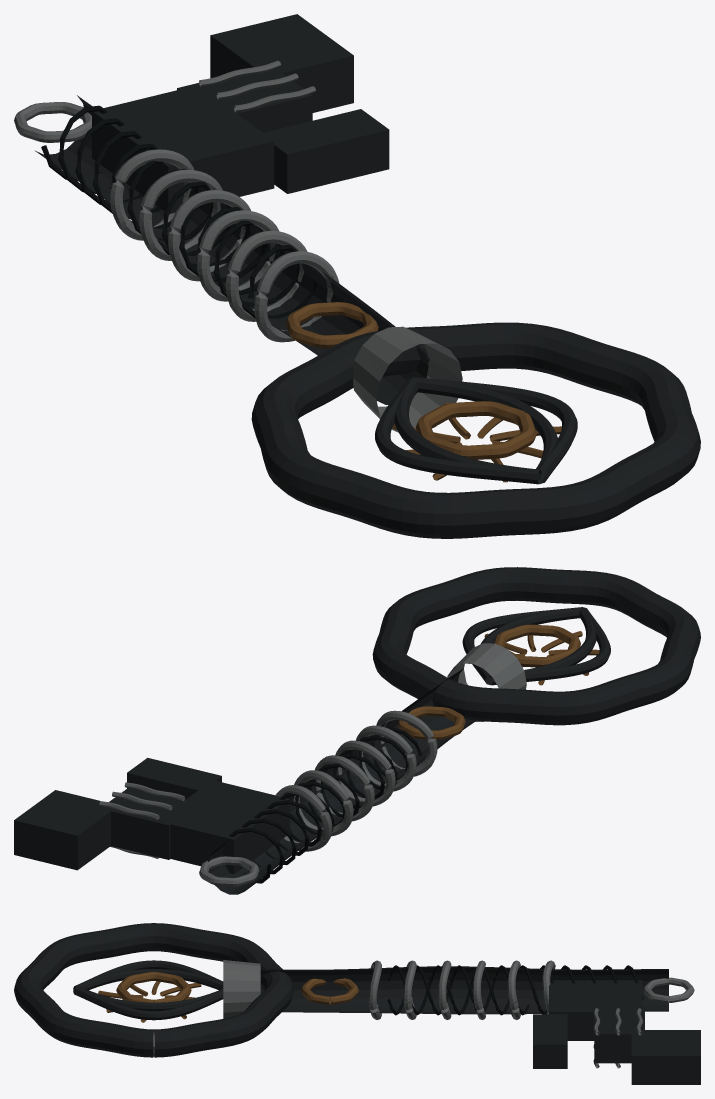
Rendered from SM_GateWardenKey_1348_v1.obj.
3 views of the same model, one above another, from view 1: azimuth 30°, elevation 25°; view 2: azimuth 150°, elevation 25°; view 3: azimuth 270°, elevation 25° (orthographic). The views are drawn at different scales.
Parts seen in each view (by area): view 1: Forged_Bow_Ring, Three_Irregular_Teeth, Bit_Web, Six_Engraved_Collars, Quatrefoil_Filigree, Forged_Shaft, Twin_Serpentine_Chased_Cuts, Ferrule_And_Tip, Central_Sigil_Ring, Sealing_Wreath_Above_Bit, Bit_Micro_Chased_Lines, Sigillum_Sunburst; view 2: Forged_Bow_Ring, Three_Irregular_Teeth, Bit_Web, Six_Engraved_Collars, Forged_Shaft, Twin_Serpentine_Chased_Cuts, Quatrefoil_Filigree, Ferrule_And_Tip, Central_Sigil_Ring, Bit_Micro_Chased_Lines, Sealing_Wreath_Above_Bit, Sigillum_Sunburst; view 3: Forged_Bow_Ring, Forged_Shaft, Three_Irregular_Teeth, Quatrefoil_Filigree, Bit_Web, Six_Engraved_Collars, Ferrule_And_Tip, Twin_Serpentine_Chased_Cuts, Central_Sigil_Ring, Sealing_Wreath_Above_Bit, Sigillum_Sunburst, Bit_Micro_Chased_Lines.
Part boxes in pixels (x1=…): Forged_Bow_Ring: x1=251, y1=322, x2=700, y2=538; Three_Irregular_Teeth: x1=177, y1=14, x2=389, y2=193; Bit_Web: x1=92, y1=85, x2=274, y2=213; Six_Engraved_Collars: x1=110, y1=149, x2=339, y2=342; Quatrefoil_Filigree: x1=375, y1=377, x2=577, y2=484; Forged_Shaft: x1=35, y1=95, x2=428, y2=404; Twin_Serpentine_Chased_Cuts: x1=41, y1=105, x2=317, y2=318; Ferrule_And_Tip: x1=14, y1=102, x2=462, y2=432; Central_Sigil_Ring: x1=416, y1=401, x2=536, y2=459; Sealing_Wreath_Above_Bit: x1=286, y1=302, x2=378, y2=348; Bit_Micro_Chased_Lines: x1=199, y1=60, x2=315, y2=112; Sigillum_Sunburst: x1=392, y1=402, x2=561, y2=482; Forged_Bow_Ring: x1=372, y1=567, x2=700, y2=725; Three_Irregular_Teeth: x1=14, y1=757, x2=221, y2=870; Bit_Web: x1=166, y1=780, x2=289, y2=874; Six_Engraved_Collars: x1=276, y1=710, x2=437, y2=851; Forged_Shaft: x1=207, y1=668, x2=476, y2=894; Twin_Serpentine_Chased_Cuts: x1=229, y1=726, x2=422, y2=883; Quatrefoil_Filigree: x1=462, y1=607, x2=610, y2=685; Ferrule_And_Tip: x1=199, y1=643, x2=526, y2=886; Central_Sigil_Ring: x1=494, y1=624, x2=580, y2=667; Bit_Micro_Chased_Lines: x1=99, y1=782, x2=185, y2=858; Sealing_Wreath_Above_Bit: x1=398, y1=706, x2=465, y2=739; Sigillum_Sunburst: x1=484, y1=631, x2=599, y2=685; Forged_Bow_Ring: x1=14, y1=923, x2=293, y2=1057; Forged_Shaft: x1=260, y1=966, x2=668, y2=1014; Three_Irregular_Teeth: x1=533, y1=1006, x2=700, y2=1084; Quatrefoil_Filigree: x1=73, y1=960, x2=223, y2=1020; Bit_Web: x1=549, y1=980, x2=642, y2=1040; Six_Engraved_Collars: x1=368, y1=960, x2=555, y2=1019; Ferrule_And_Tip: x1=223, y1=960, x2=694, y2=1018; Twin_Serpentine_Chased_Cuts: x1=387, y1=965, x2=643, y2=1015; Central_Sigil_Ring: x1=116, y1=972, x2=191, y2=1002; Sealing_Wreath_Above_Bit: x1=301, y1=978, x2=358, y2=1004; Sigillum_Sunburst: x1=98, y1=981, x2=201, y2=1022; Bit_Micro_Chased_Lines: x1=593, y1=1008, x2=642, y2=1068.
Bounding box in the file's own units: 0.1235 × 0.0228 × 0.2575.
